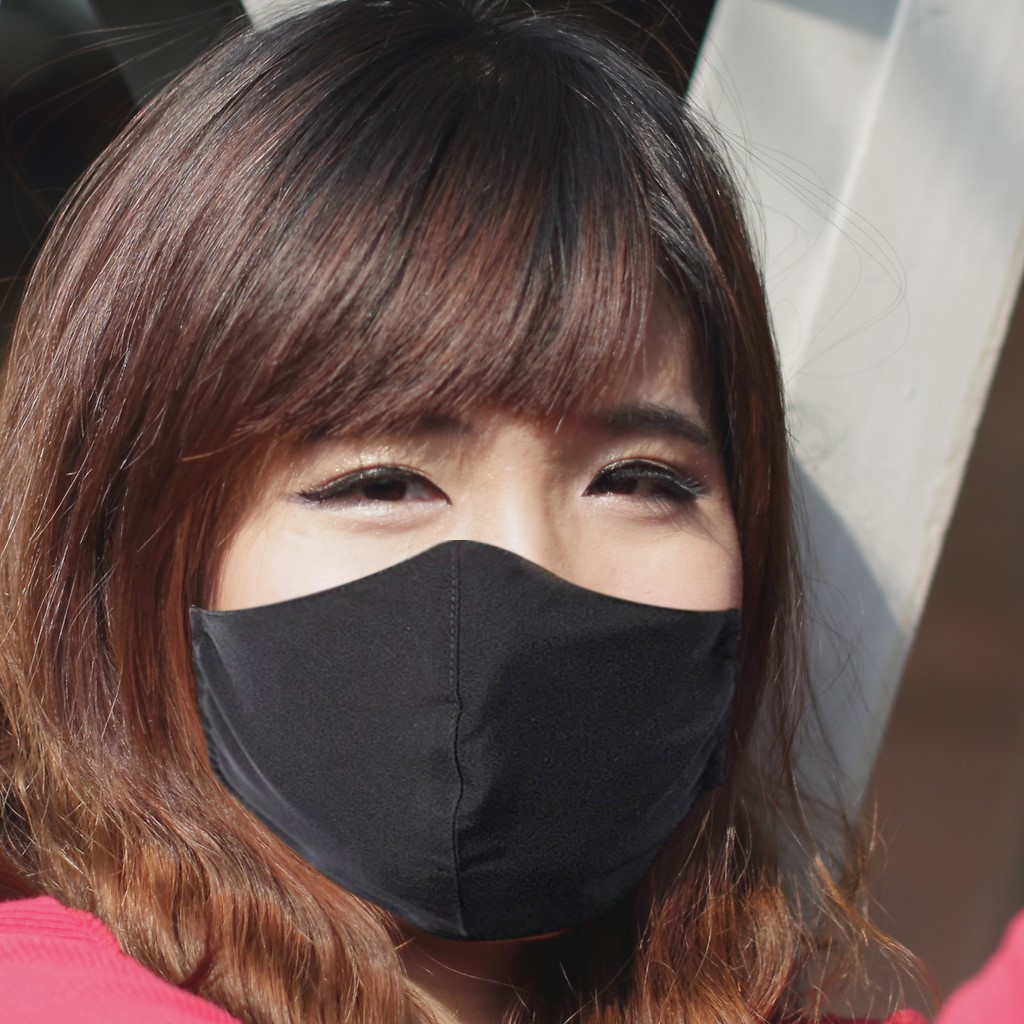con_mascara: (169, 200, 756, 920)
